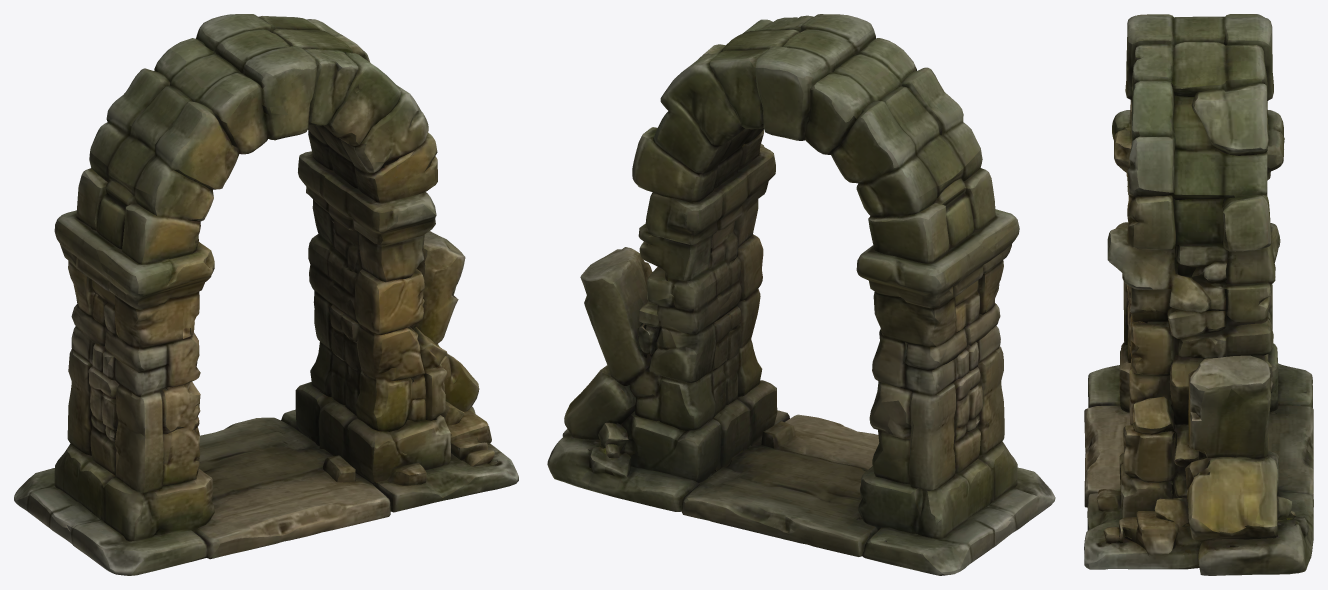
File: env_arch.glb
3 views of the same model, side by side, from view 1: azimuth 30°, elevation 25°; view 2: azimuth 150°, elevation 25°; view 3: azimuth 270°, elevation 25° (orthographic).
Visible parts, largest first — view 1: world; view 2: world; view 3: world.
Boxes of the visible parts, bbox=[...] form: world: bbox=[14, 14, 518, 575]; world: bbox=[547, 14, 1055, 575]; world: bbox=[1084, 14, 1313, 575].
Size of the model in its own units: 2.9 by 3 by 1.4.
1 material, 1 textured.
